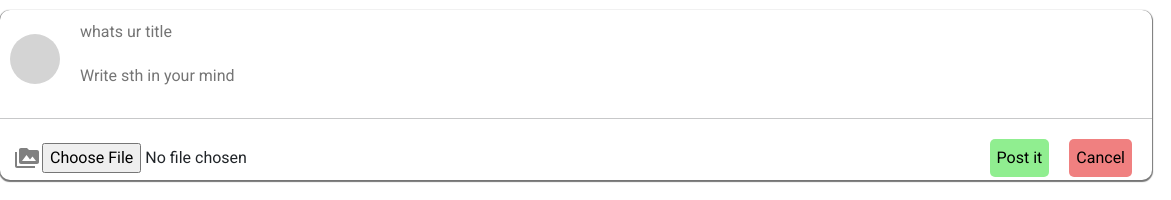
Test: <Share /> › clearText function should clear the input fields
Type "Test title" into the field with placeholder "whats ur title" at (517, 32), box [80, 10, 954, 54]
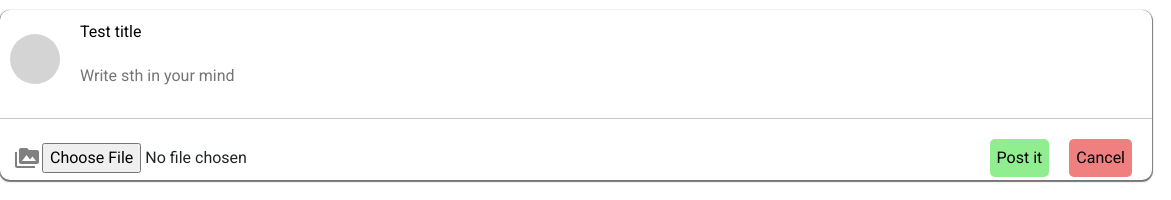
Type "Test article content" into the field with placeholder "Write sth in your mind" at (517, 76), box [80, 54, 954, 98]
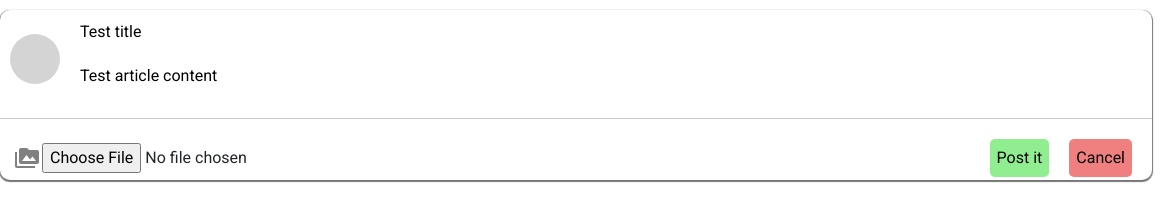
Click the button "Cancel" at (1101, 158), box [1069, 139, 1132, 177]
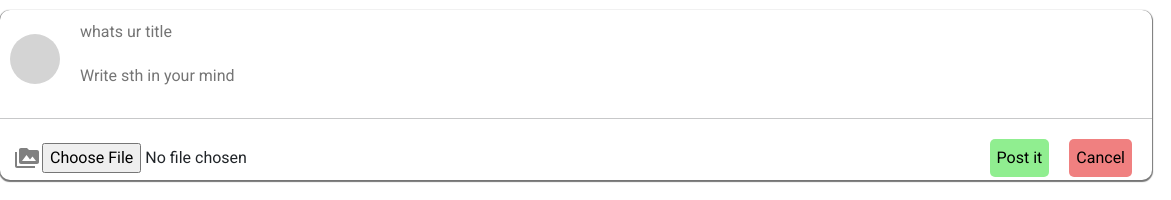
Expected: the field with placeholder "whats ur title" is empty, [80, 10, 954, 54]
Expected: the field with placeholder "Write sth in your mind" is empty, [80, 54, 954, 98]
